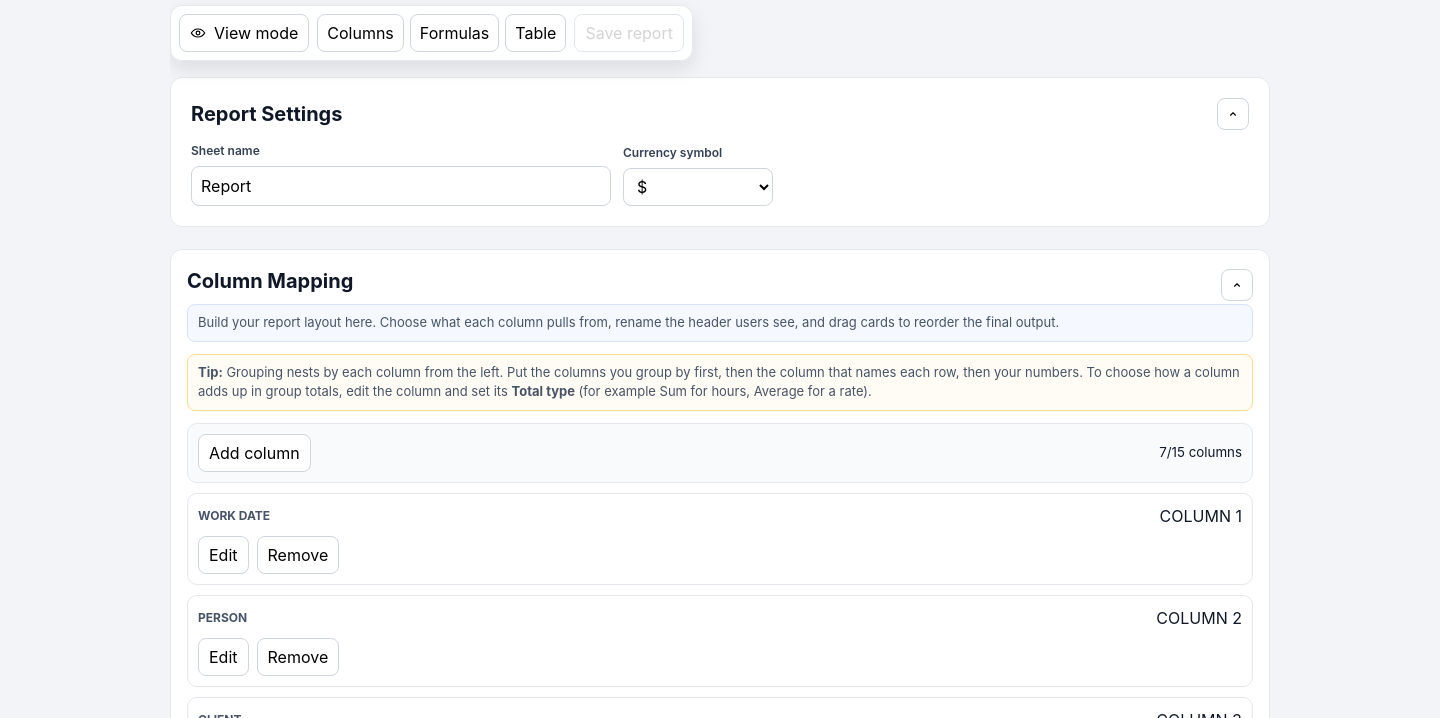
ReportBuilderApp › syncs mapped column source when a formula label is renamed
Click the button with aria-label "Edit COLUMN 1". click: click(223, 554)
box: [198,536,248,574]
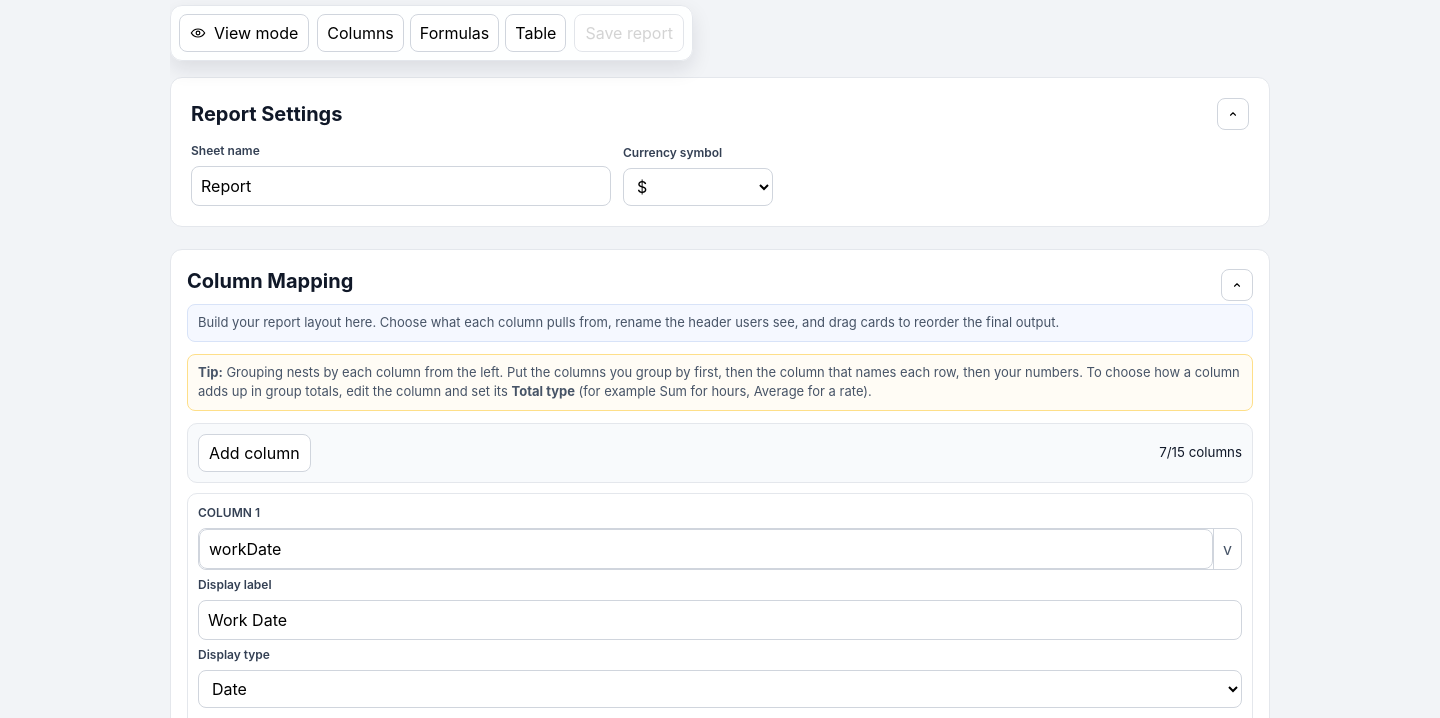
Replace the text in the field labelled "COLUMN 1" with "grossFees". click: (706, 548)
box: [199,528,1213,568]
(page scrolled)
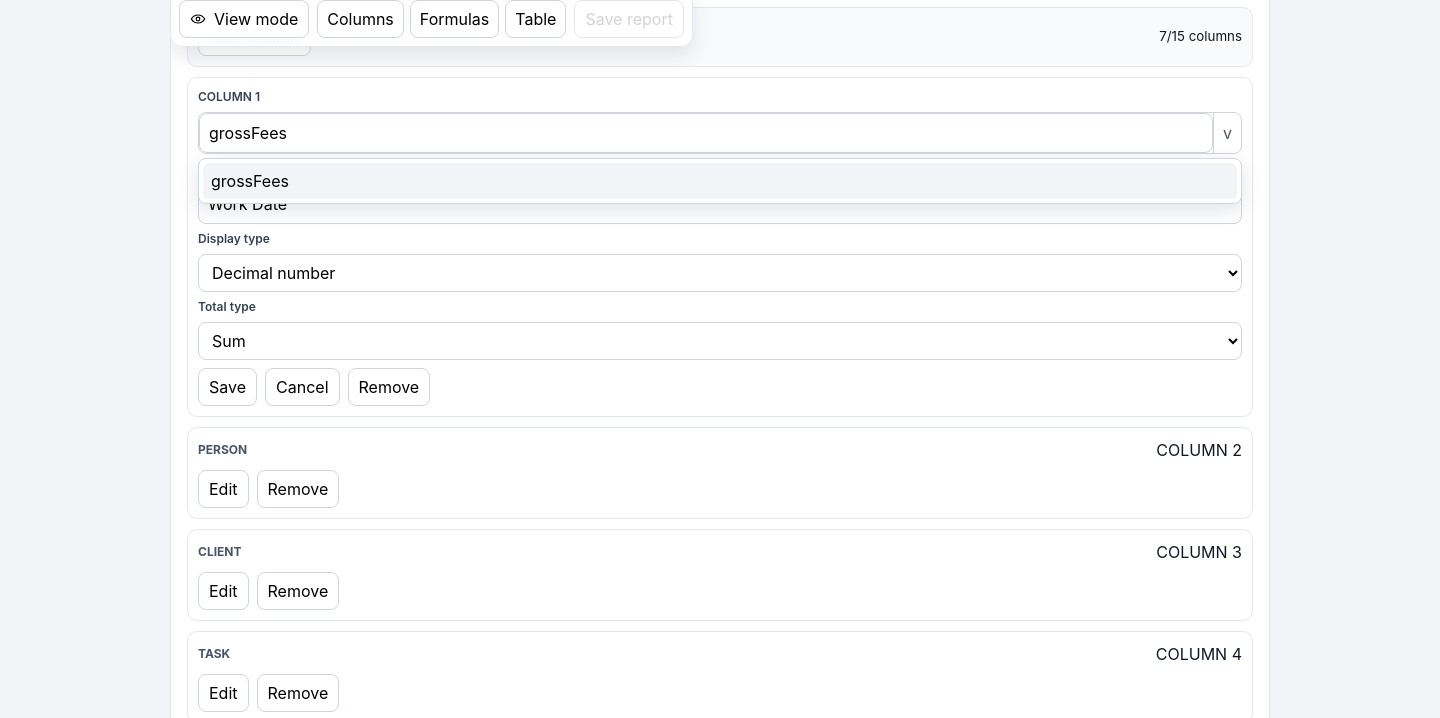
Click the button with aria-label "Save COLUMN 1". click: click(228, 386)
box: [198,368,257,406]
(page scrolled)
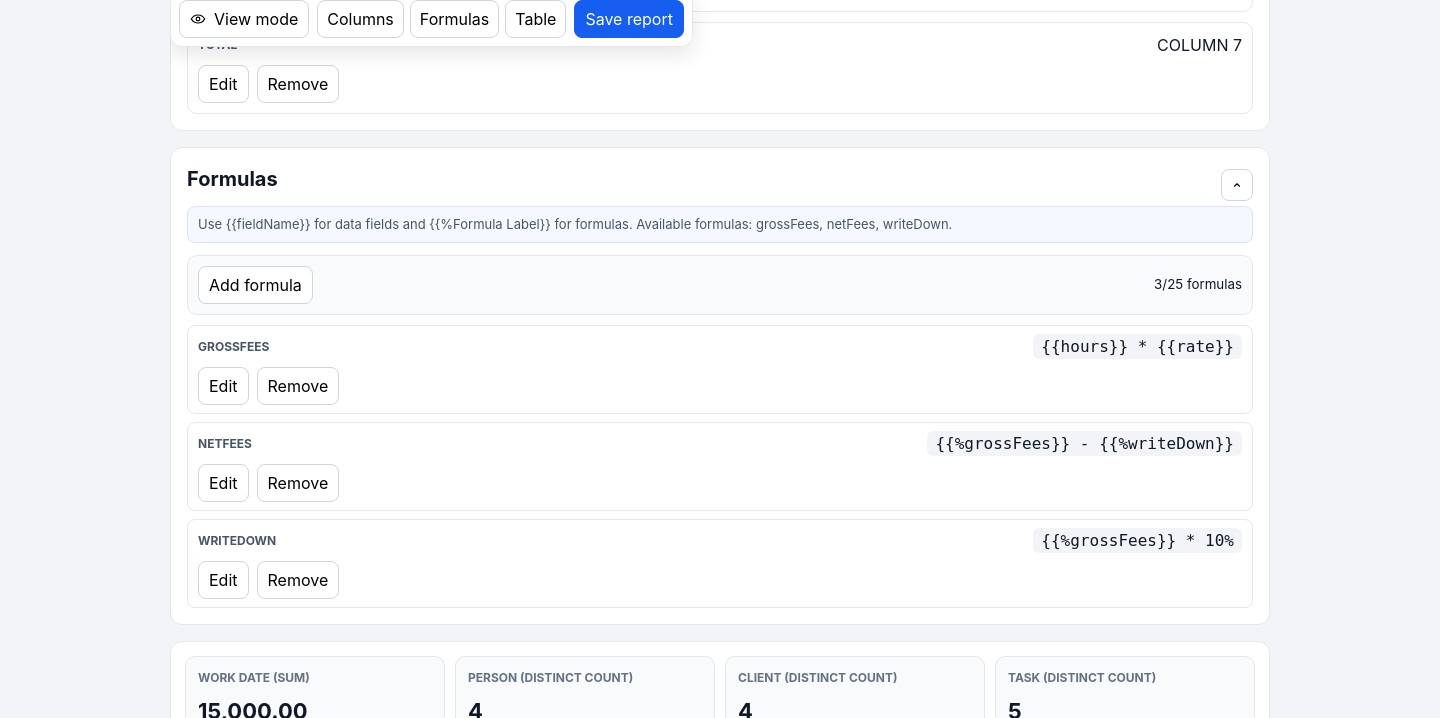
Click the 3rd button "Edit". click: click(223, 386)
box: [198,367,248,405]
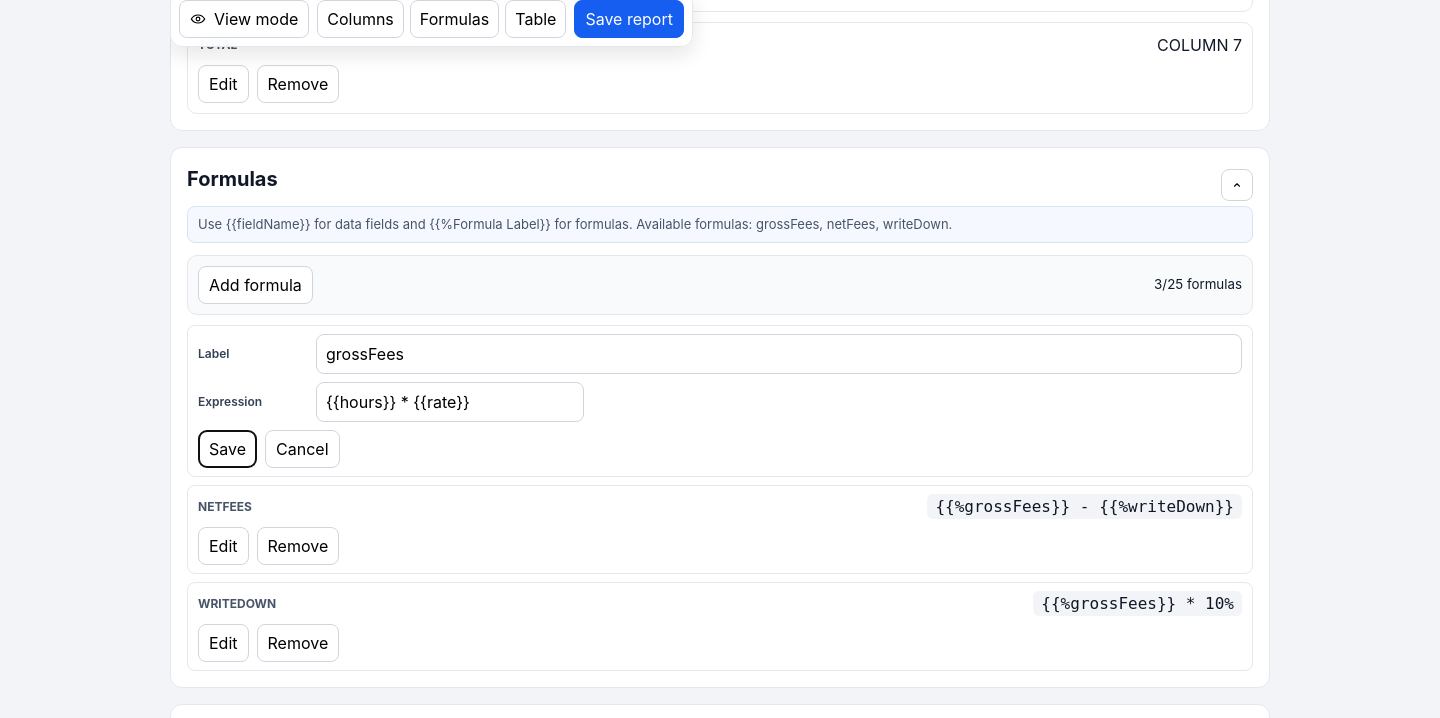
Replace the text in the field labelled "Label" with "Gross Renamed". click: (779, 354)
box: [316,334,1242,374]
Click the button "Save". click: click(228, 449)
box: [198,430,257,468]
(page scrolled)
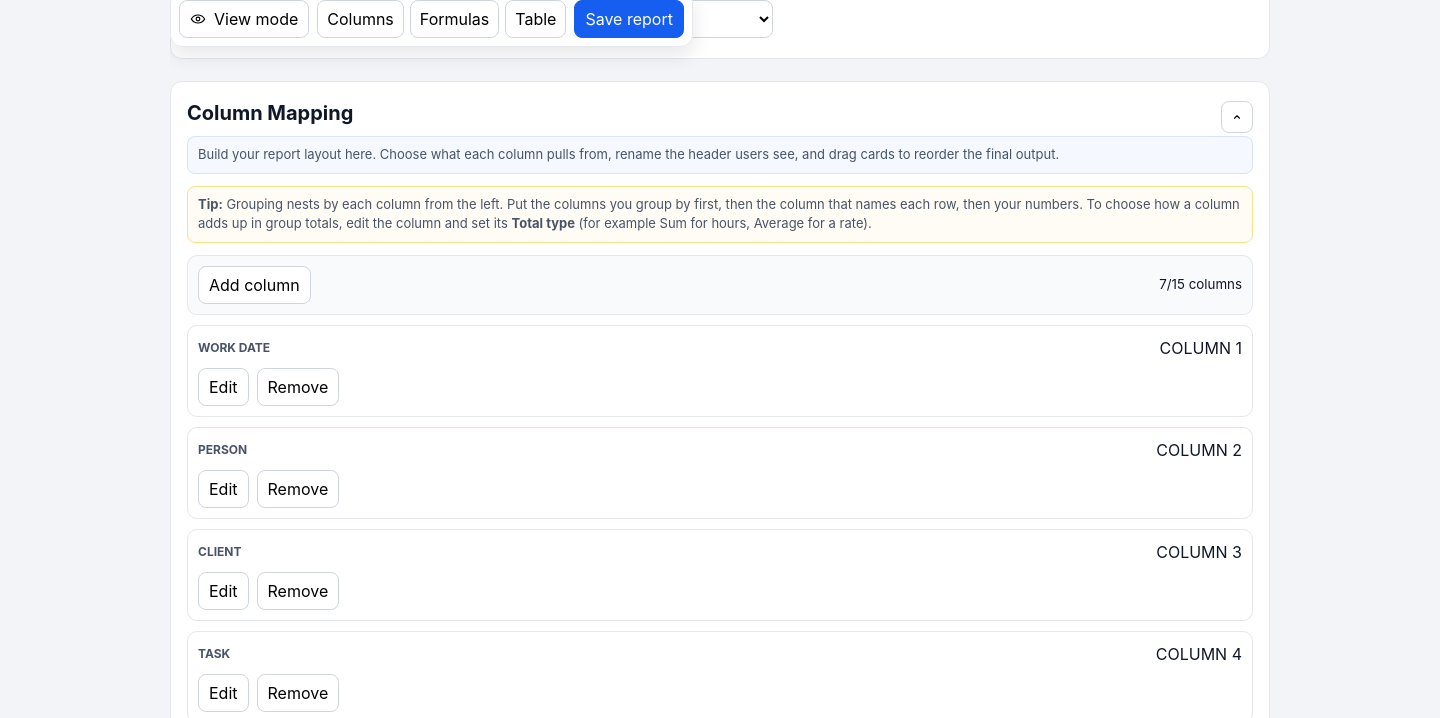
Click the button with aria-label "Edit COLUMN 1". click: click(223, 386)
box: [198,368,248,406]
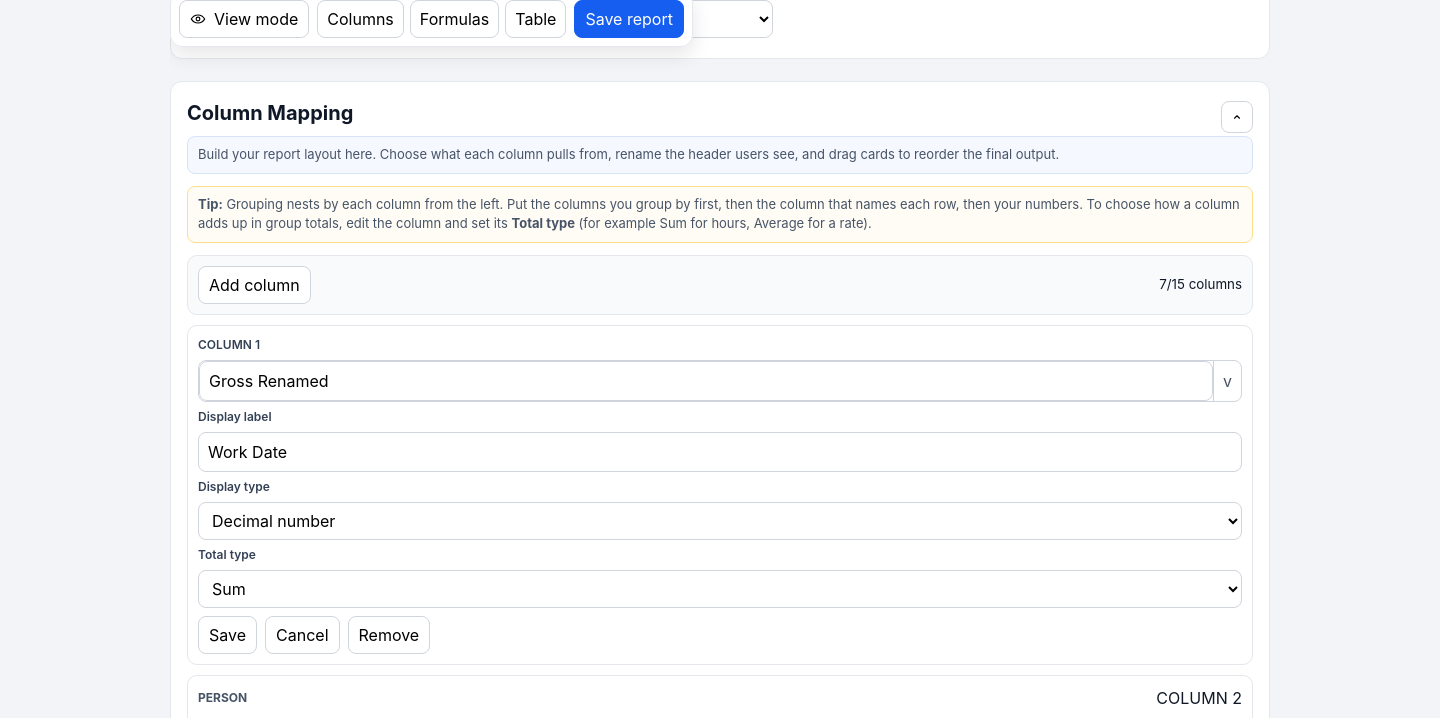
Result: the field labelled "COLUMN 1" holds "Gross Renamed" at [199,360,1213,400]
